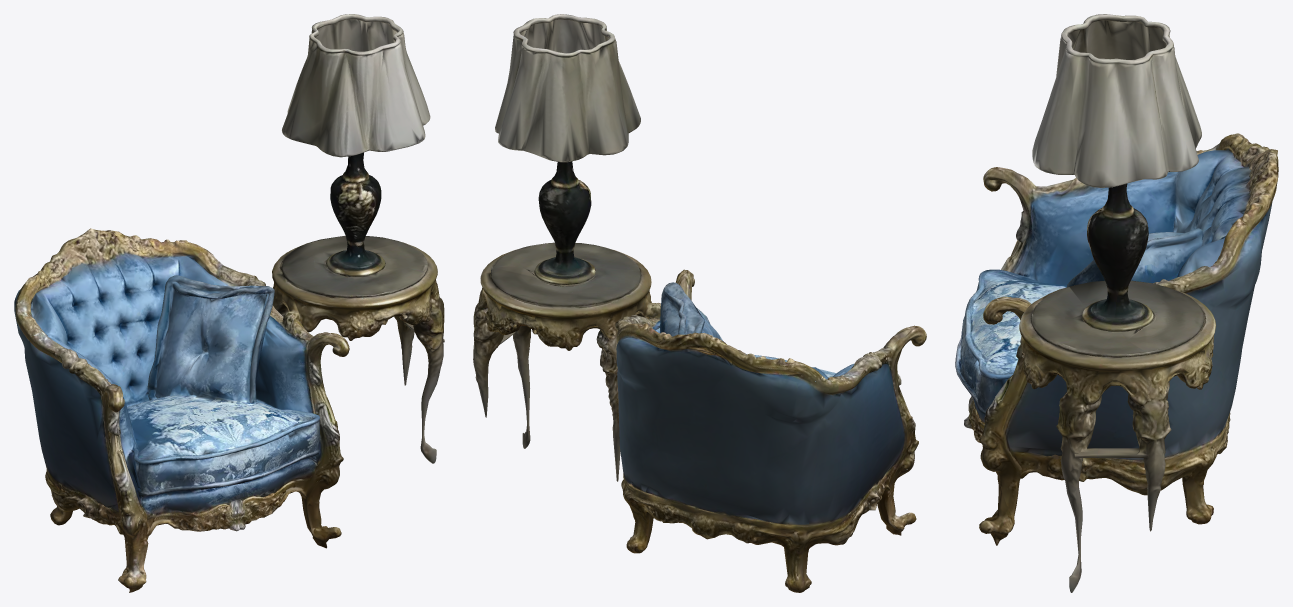
The model's file is blue-armchair.glb.
3 renders of one model, left to right at view 1: azimuth 30°, elevation 25°; view 2: azimuth 150°, elevation 25°; view 3: azimuth 270°, elevation 25°, orthographic. The views are drawn at different scales.
Parts seen in each view (by area): view 1: tripo_node_801a2585-6eae-4bb4-a267-a9557f8ed9c4; view 2: tripo_node_801a2585-6eae-4bb4-a267-a9557f8ed9c4; view 3: tripo_node_801a2585-6eae-4bb4-a267-a9557f8ed9c4.
Part boxes in pixels (x1,y1,x2,y2): tripo_node_801a2585-6eae-4bb4-a267-a9557f8ed9c4: (14, 14, 444, 592); tripo_node_801a2585-6eae-4bb4-a267-a9557f8ed9c4: (473, 14, 926, 592); tripo_node_801a2585-6eae-4bb4-a267-a9557f8ed9c4: (955, 14, 1278, 592).
Bounding box in the file's own units: 0.8578 × 0.9995 × 0.5273.
Materials: 1 (1 with a texture image).
